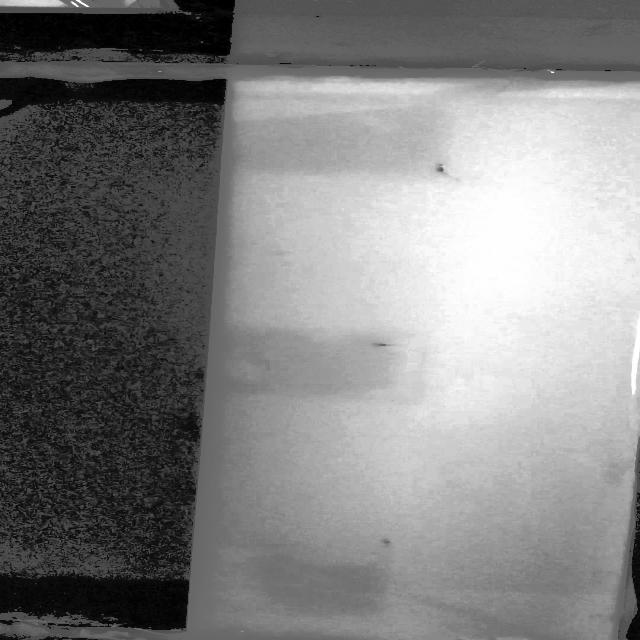shrimp: (370, 336, 406, 352), (370, 530, 394, 548), (438, 159, 454, 178)
